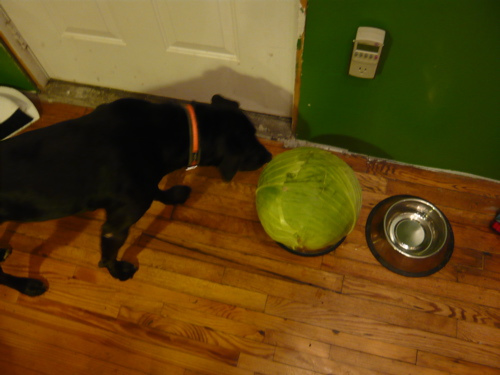cabbage: (255, 146, 361, 252)
